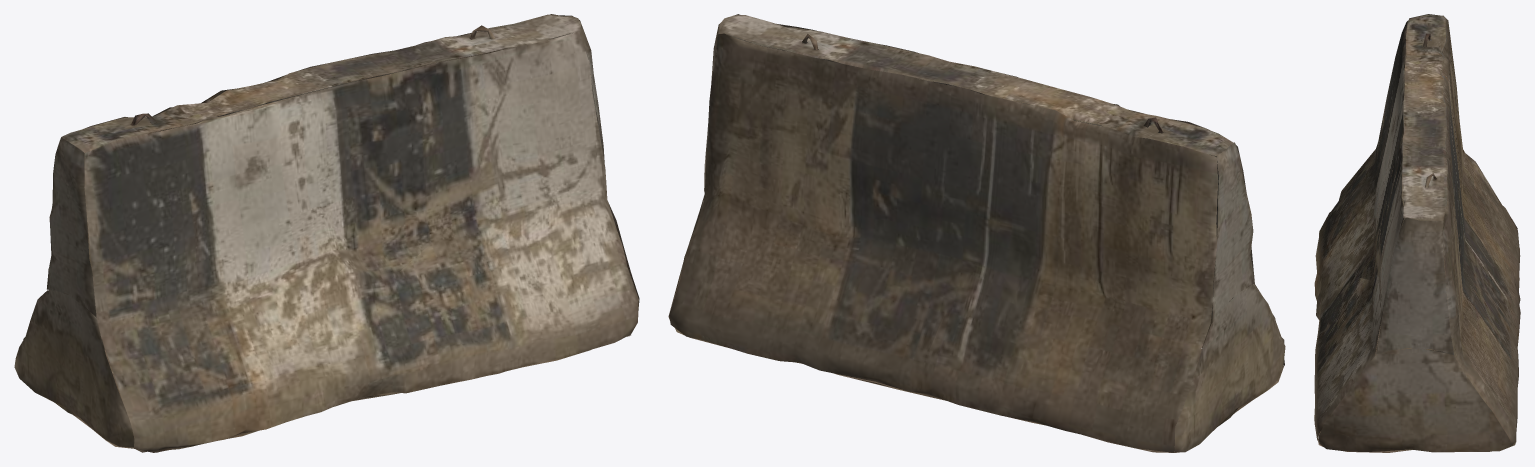
The model's file is concrete_road_barrier.glb.
The picture shows the model from 3 angles, left to right: view 1: azimuth 30°, elevation 25°; view 2: azimuth 150°, elevation 25°; view 3: azimuth 270°, elevation 25°; orthographic projection. The views are drawn at different scales.
Parts seen in each view (by area): view 1: concrete_road_barrier; view 2: concrete_road_barrier; view 3: concrete_road_barrier.
Boxes of the visible parts, box(x1,y1,x2,y2) form: concrete_road_barrier: box(14, 14, 639, 452); concrete_road_barrier: box(668, 14, 1285, 452); concrete_road_barrier: box(1314, 14, 1520, 452).
Size of the model in its own units: 1.54 by 0.8323 by 0.6344.
1 material, 1 textured.
